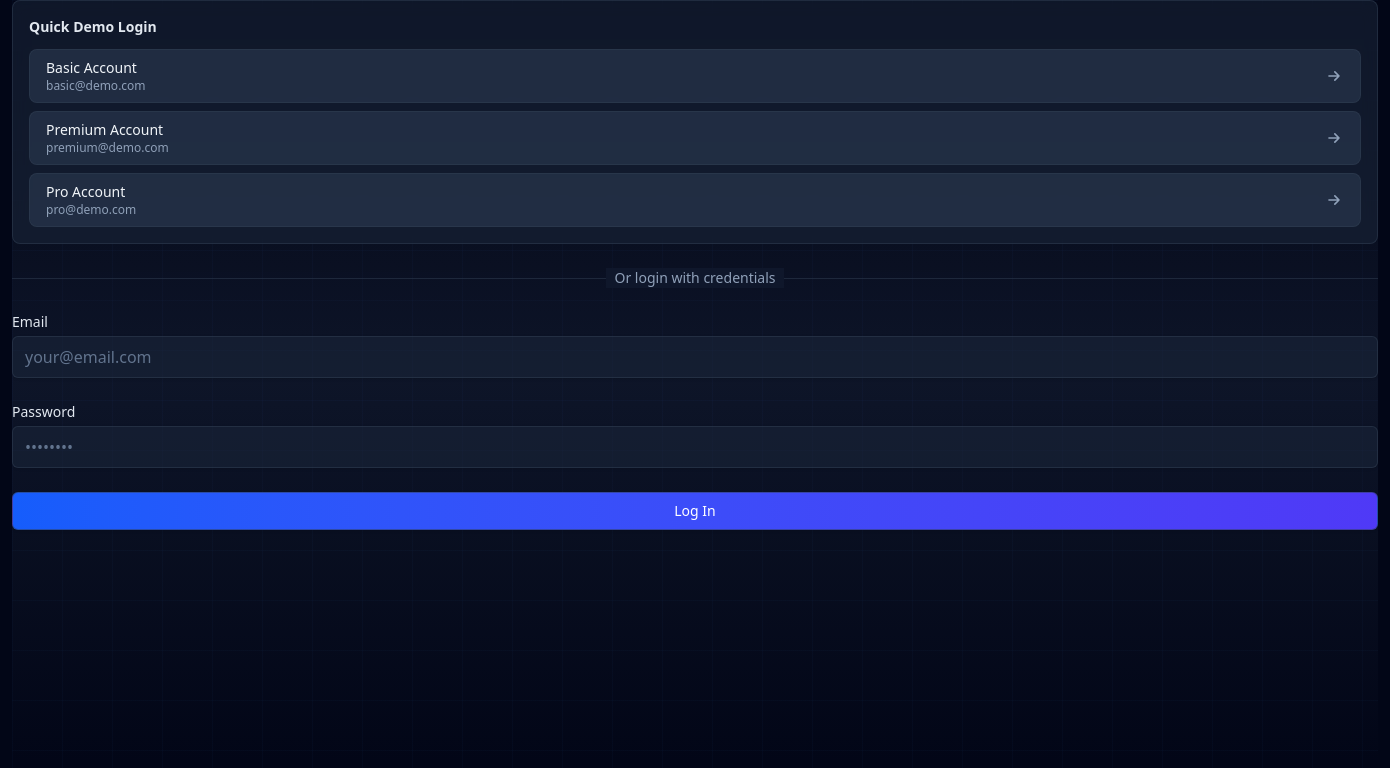
Scenario: LoginForm › Form Validation - Email › should show error for invalid email format
// Use an email that passes HTML5 validation but fails our regex
In the field with test id "email-input": (695, 357) [12,336,1378,378], type "test@invalid"
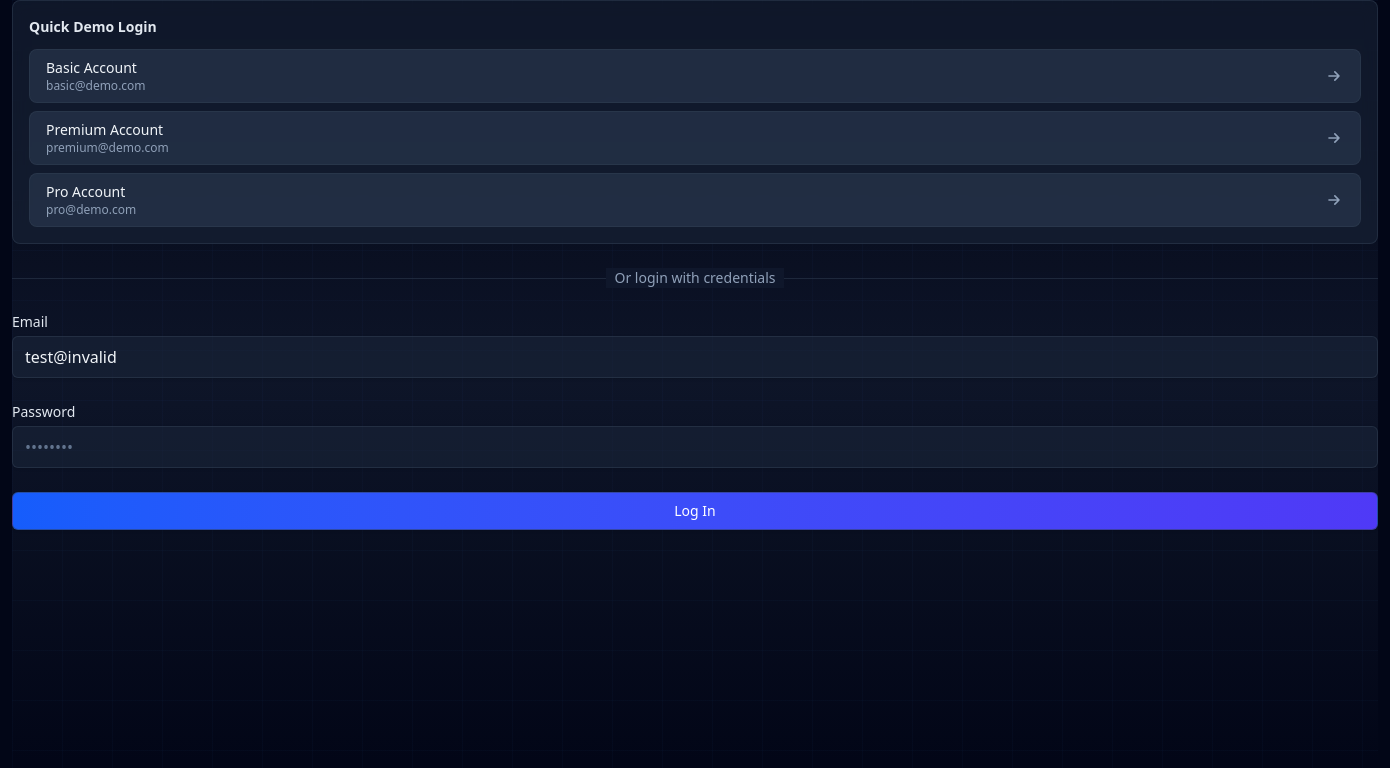
In the password field with test id "password-input": (695, 447) [12,426,1378,468], type "password123"
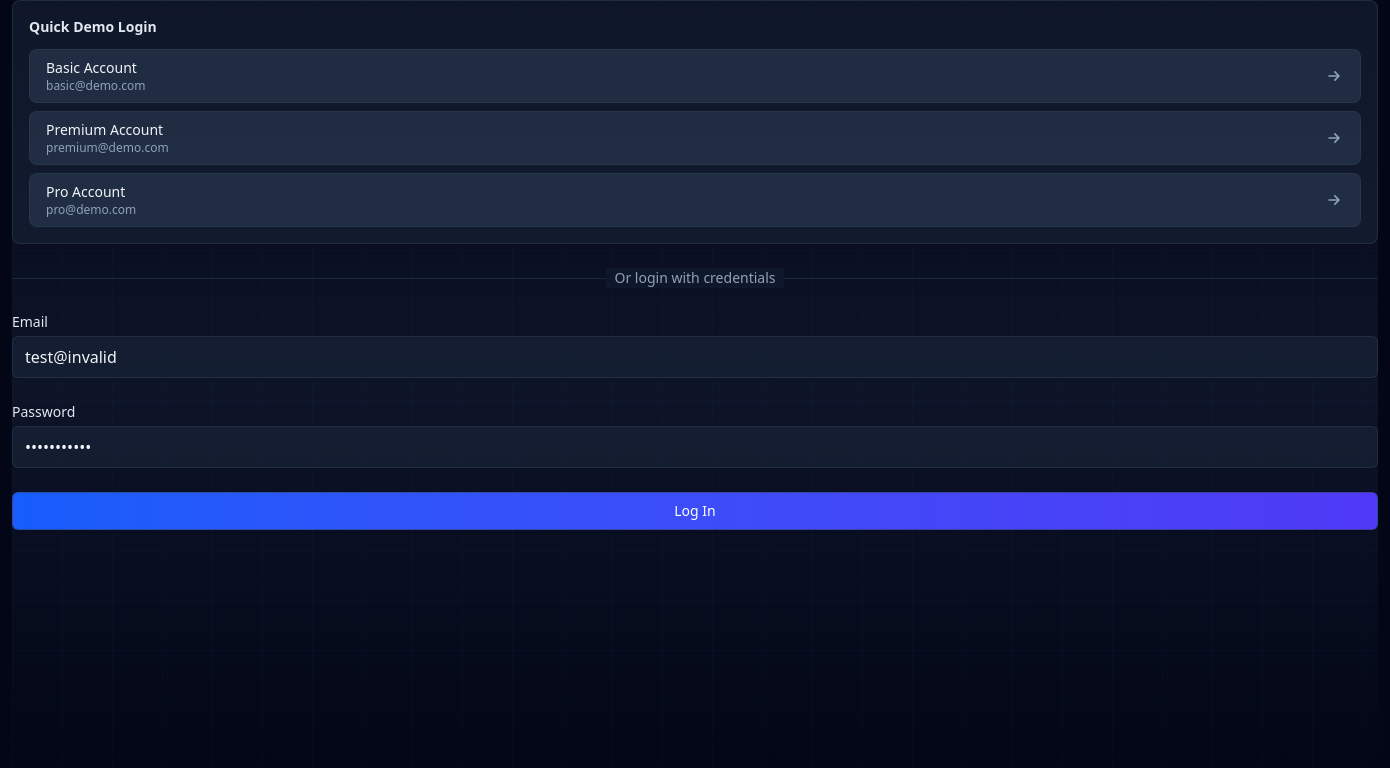
Click the button with test id "submit-button": (695, 511) [12,492,1378,530]
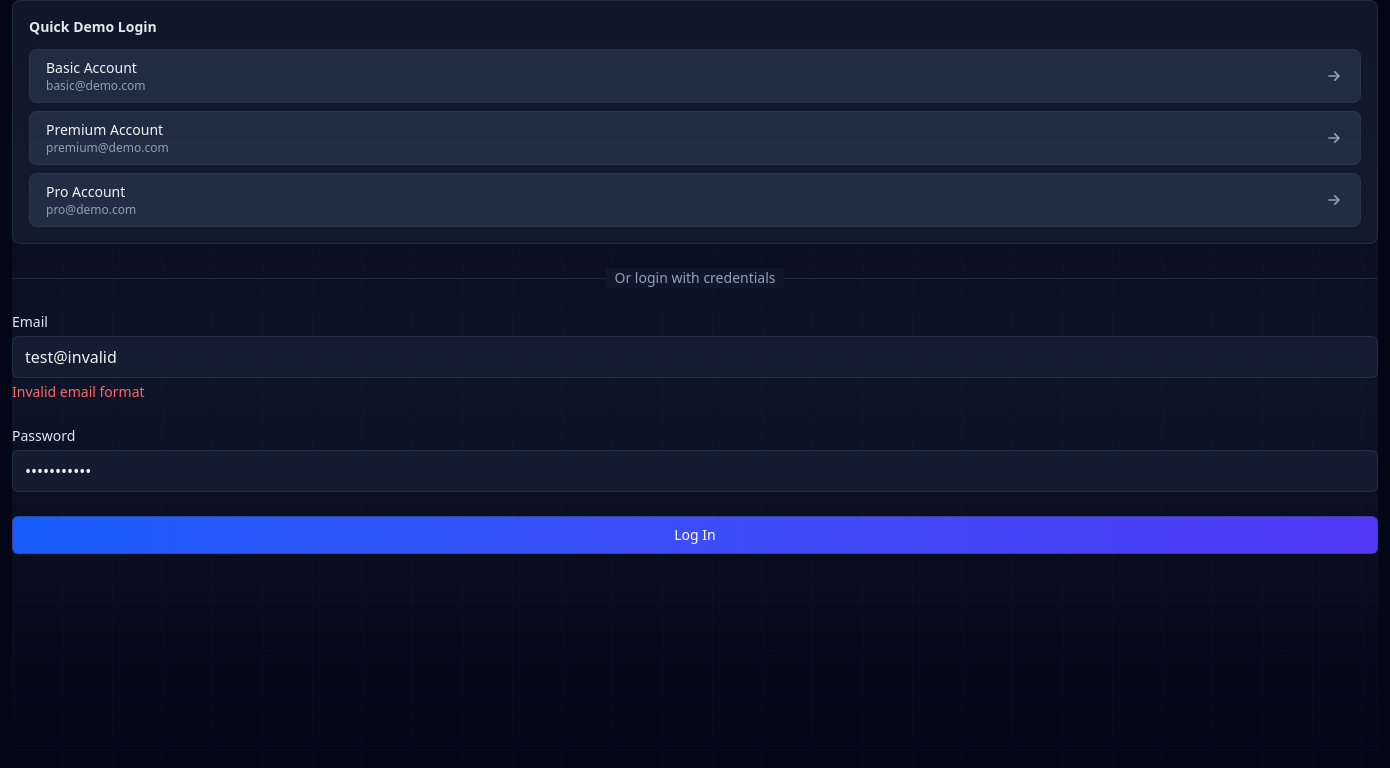
Expected: the text with test id "email-error" reads "Invalid email format", [12,382,145,401]
